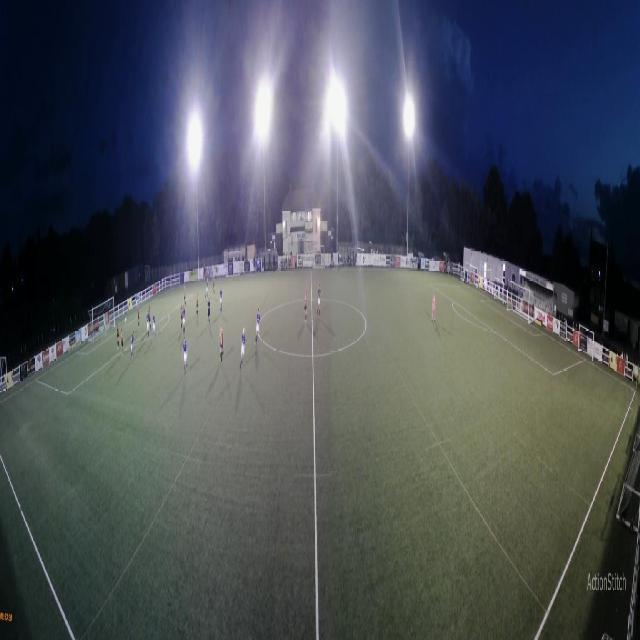ball: (124, 317, 126, 324)
player: (240, 327, 246, 369), (182, 337, 188, 375), (219, 324, 224, 363), (255, 307, 260, 346), (317, 283, 321, 318), (304, 290, 308, 324), (131, 330, 135, 361), (432, 292, 436, 322), (207, 298, 211, 326), (121, 328, 125, 355), (148, 306, 152, 331), (153, 311, 156, 340), (182, 306, 185, 334), (146, 311, 149, 338), (220, 287, 223, 313), (104, 313, 107, 338), (184, 283, 187, 307), (205, 279, 208, 299), (117, 322, 119, 350), (181, 303, 183, 330), (138, 305, 140, 330), (196, 294, 198, 316), (213, 275, 215, 295)
